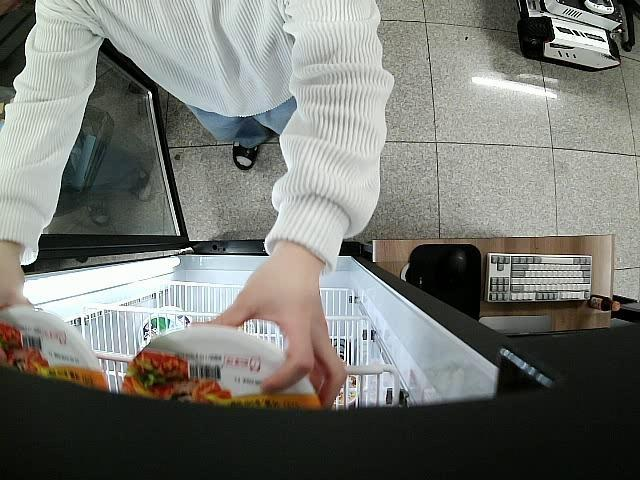10_wangTtukkeong: (120, 324, 324, 408), (0, 308, 113, 392)
